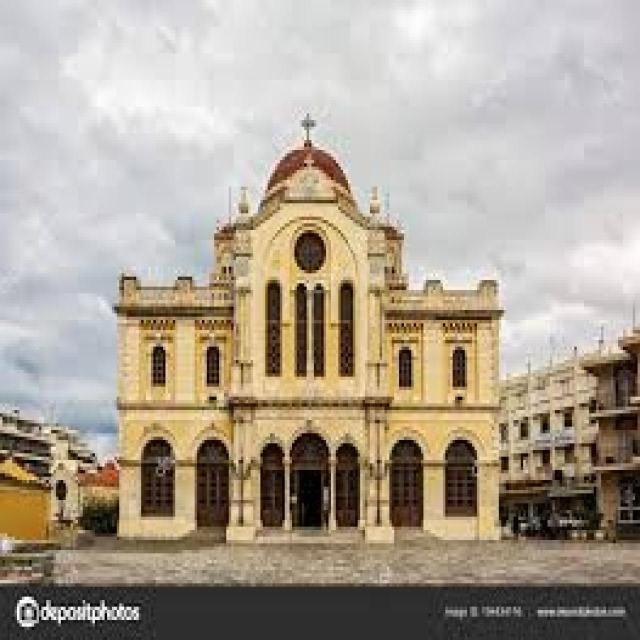Agios Minas: (117, 114, 506, 546)
